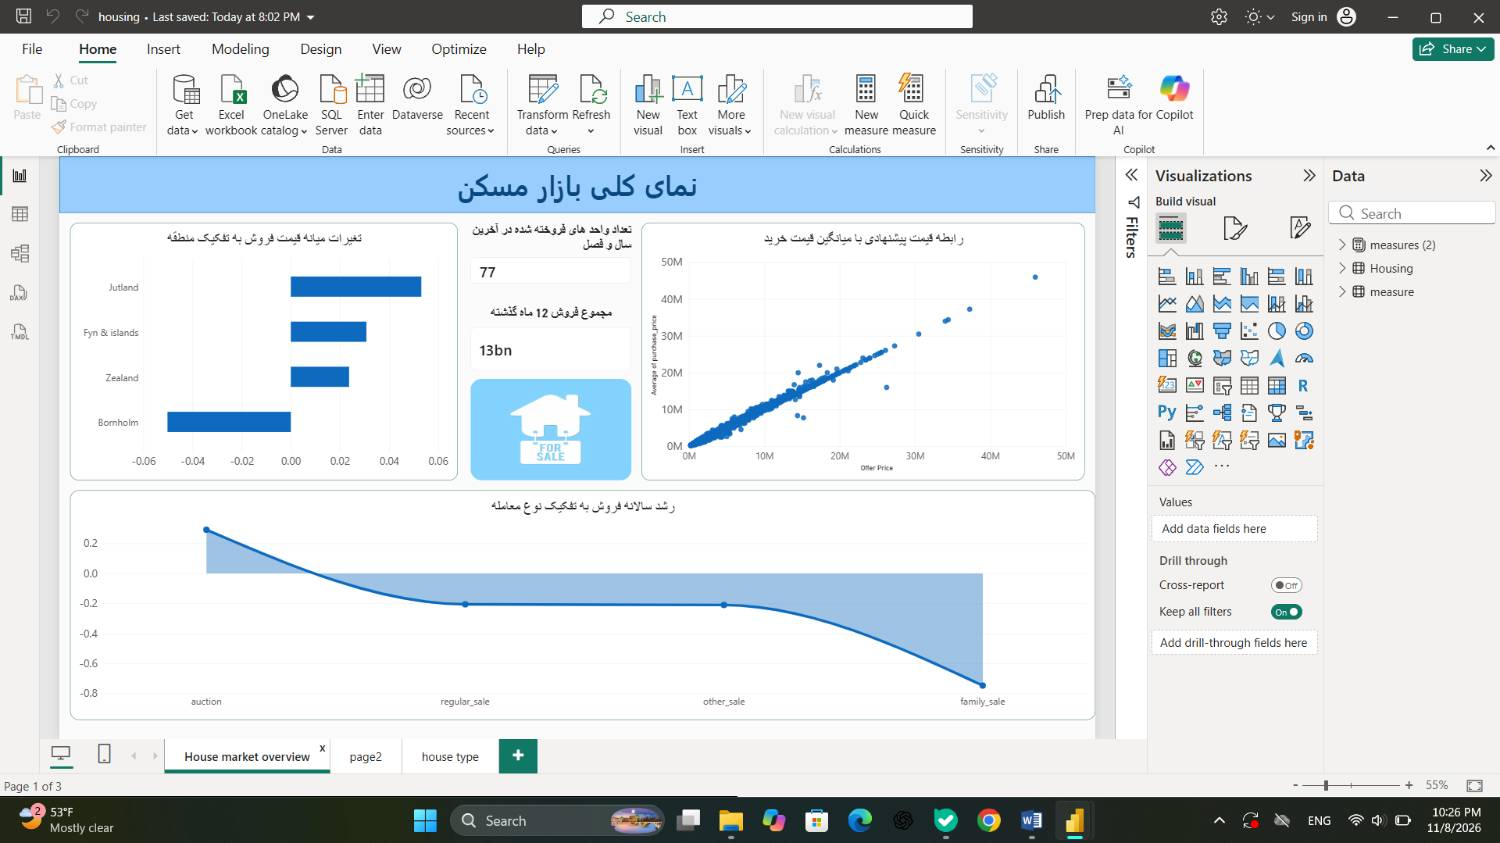

Layout of this report page (visuals, bound fields, positions):
{"tool":"powerbi","page":{"name":"House market overview","canvas":[1920,1080],"ordinal":0},"visuals":[{"type":"lineChart","title":"رشد سالانه فروش به تفکیک نوع معامله","fields":{"Category":["Housing.sales_type"],"Y":["Housing.\"YOY_Sales_Growth"]},"box":[19.9,618.9,1900.1,425.3],"z":0},{"type":"scatterChart","title":"رابطه قیمت پیشنهادی با  میانگین قیمت خرید","fields":{"X":["Housing.Offer Price"],"Y":["Avg(Housing.purchase_price)"]},"box":[1078.6,123.1,821.6,477.8],"z":1000},{"type":"barChart","title":"تغیرات میانه قیمت فروش  به تفکیک منطقه","fields":{"Category":["Housing.region"],"Y":["Housing.\"Median Sales Price Change"]},"box":[20.6,123.5,718.4,477.5],"z":2000},{"type":"cardVisual","title":"تعداد واحد های فروخته شده در آخرین سال و فصل ","fields":{"Data":["Housing.\"Units sold in latest Year & Quarter"]},"box":[761.6,123.5,298.5,113.2],"z":3000},{"type":"cardVisual","title":"مجموع فروش 12 ماه گذشته   ","fields":{"Data":["Housing.Last 12 Month Sales"]},"box":[761.9,276.9,298.6,119.4],"z":4000},{"type":"image","box":[761.9,412.6,298.6,188.2],"z":5000},{"type":"shape","box":[0,0,1920.4,105],"z":6000}]}

Visuals, with their boxes on the page's 1920x1080 design canvas (x1, y1, x2, y2). These are canvas units, not pixel positions in the 1500x843 screenshot, which may show the page scaled, cropped or inside an application window:
"رشد سالانه فروش به تفکیک نوع معامله" lineChart: BBox(20, 619, 1920, 1044)
"رابطه قیمت پیشنهادی با  میانگین قیمت خرید" scatterChart: BBox(1079, 123, 1900, 601)
"تغیرات میانه قیمت فروش  به تفکیک منطقه" barChart: BBox(21, 124, 739, 601)
"تعداد واحد های فروخته شده در آخرین سال و فصل " cardVisual: BBox(762, 124, 1060, 237)
"مجموع فروش 12 ماه گذشته   " cardVisual: BBox(762, 277, 1060, 396)
image: BBox(762, 413, 1060, 601)
shape: BBox(0, 0, 1920, 105)
